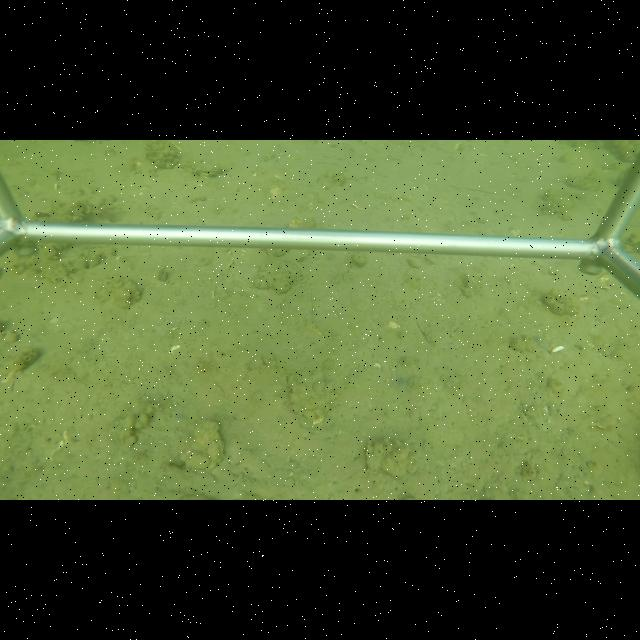Oyster-Closed: (178, 420, 228, 472), (183, 159, 226, 178)
